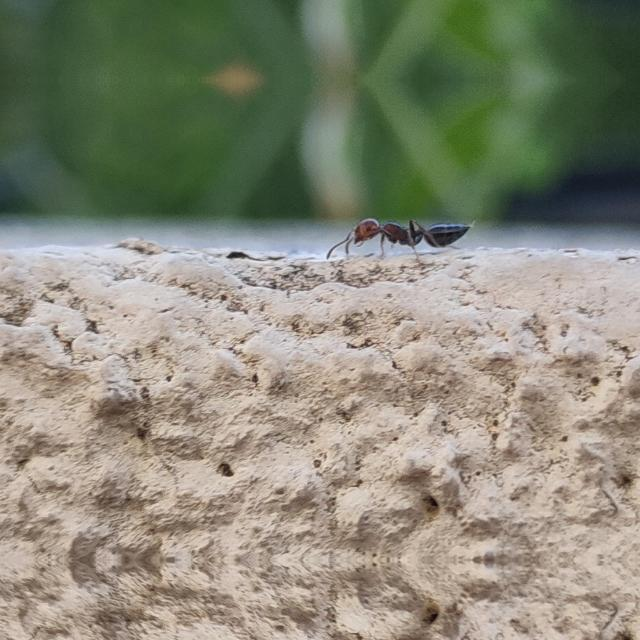Crematogaster: (332, 211, 478, 255)
